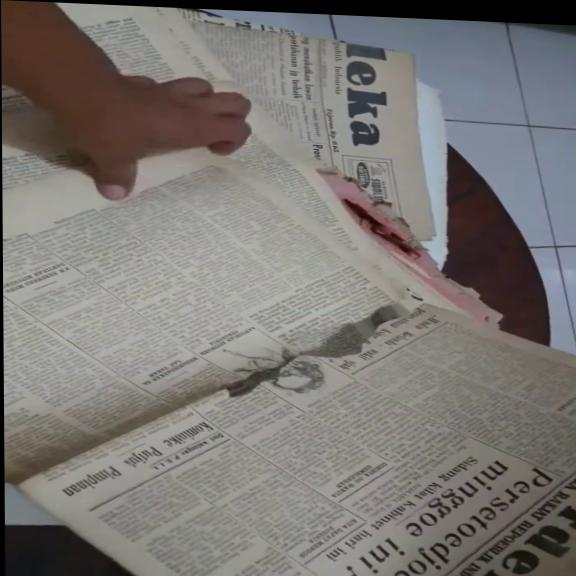Kertas: (16, 282, 576, 576), (1, 1, 441, 271)
